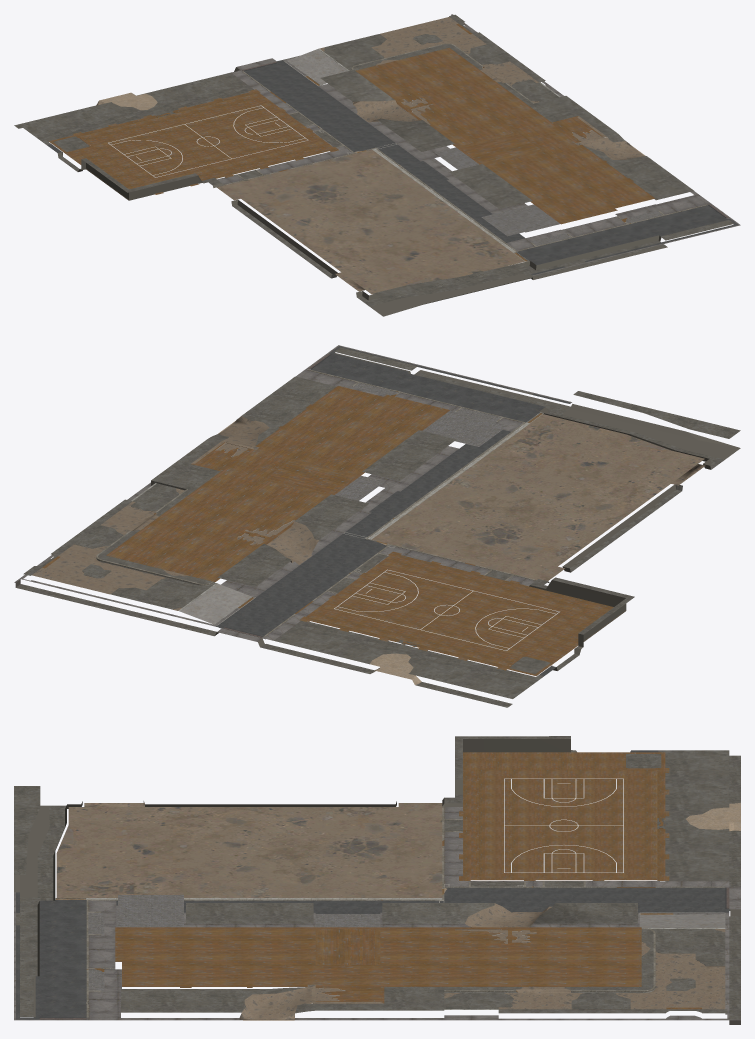
The model's file is School_Base.fbx.
3 renders of one model, top to bottom at view 1: azimuth 30°, elevation 25°; view 2: azimuth 150°, elevation 25°; view 3: azimuth 270°, elevation 25°, orthographic. The views are drawn at different scales.
Visible parts, largest first — view 1: School_STR_Base_01_0; view 2: School_STR_Base_01_0; view 3: School_STR_Base_01_0.
Part boxes in pixels (<box>): School_STR_Base_01_0: <box>14,14,740,316</box>; School_STR_Base_01_0: <box>14,345,740,707</box>; School_STR_Base_01_0: <box>14,736,740,1024</box>.
Size of the model in its own units: 6500 by 221 by 7400.
Materials: 12 (10 with a texture image).
